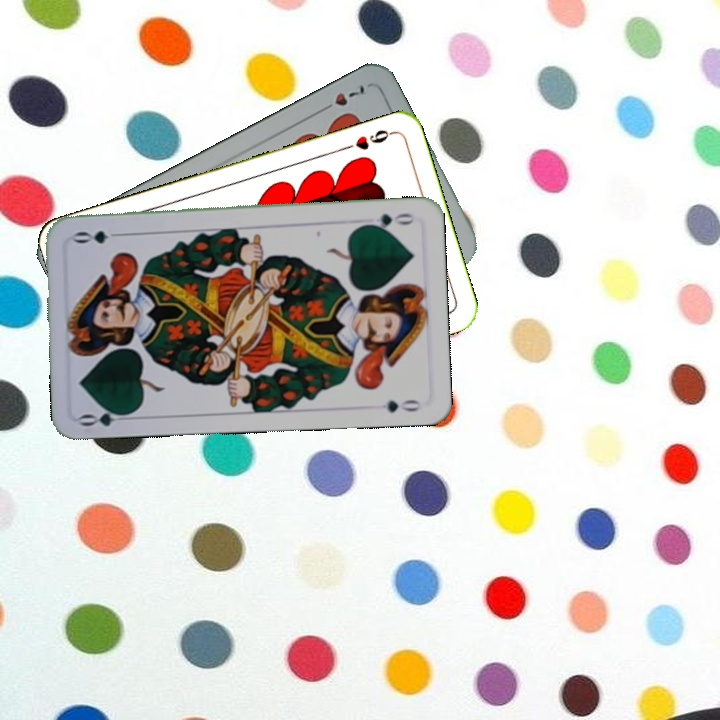GO: (76, 403, 136, 429), (359, 209, 417, 232)
H7: (315, 80, 370, 116)
H9: (339, 125, 396, 153)
